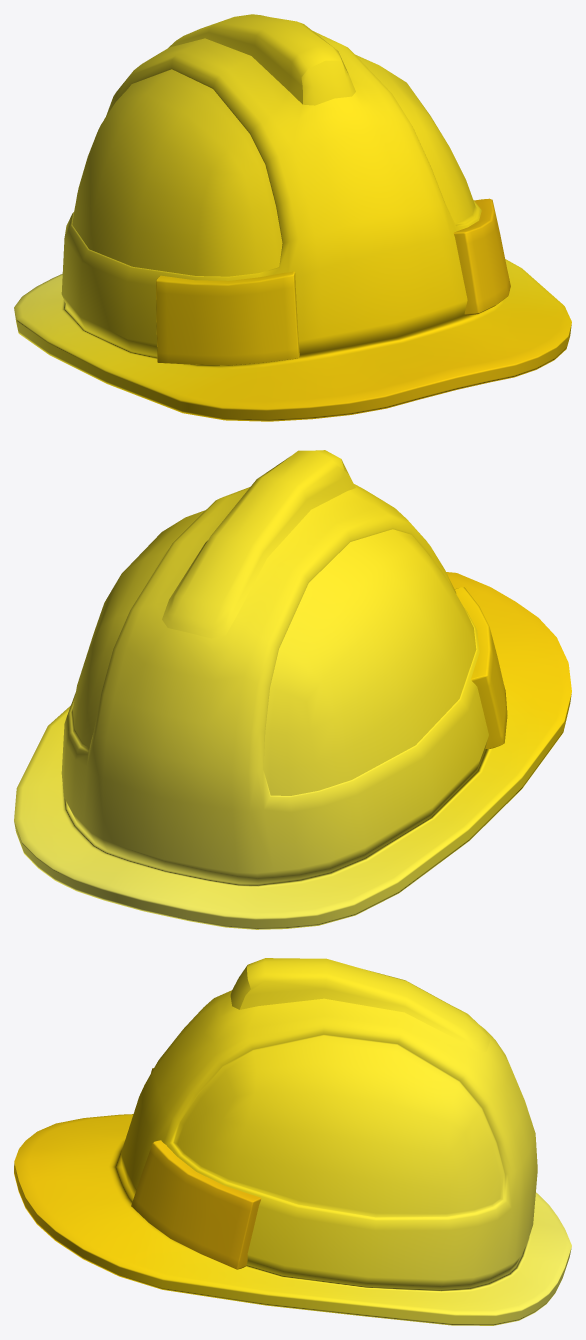
The model's file is Safety_Helmet.fbx.
The picture shows the model from 3 angles, top to bottom: view 1: azimuth 30°, elevation 25°; view 2: azimuth 150°, elevation 25°; view 3: azimuth 270°, elevation 25°; orthographic projection. The views are drawn at different scales.
Visible parts, largest first — view 1: Safety_Helmet; view 2: Safety_Helmet; view 3: Safety_Helmet.
Boxes of the visible parts, left/top/right/bottom form: Safety_Helmet: left=14, top=14, right=571, bottom=421; Safety_Helmet: left=14, top=450, right=571, bottom=929; Safety_Helmet: left=14, top=958, right=571, bottom=1325.
Bounding box in the file's own units: 110 × 84.66 × 143.
